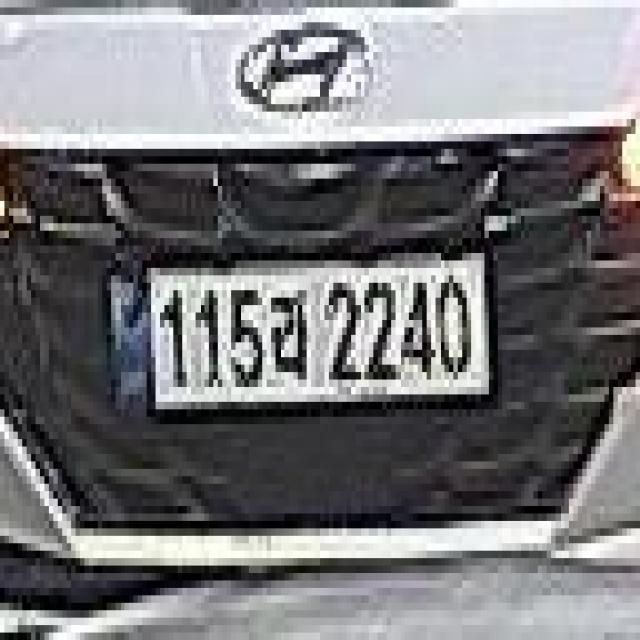illegal_plate: (113, 244, 499, 424)
